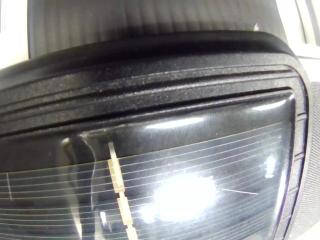crack: (218, 188, 258, 194)
solarboard: (0, 94, 294, 240)
